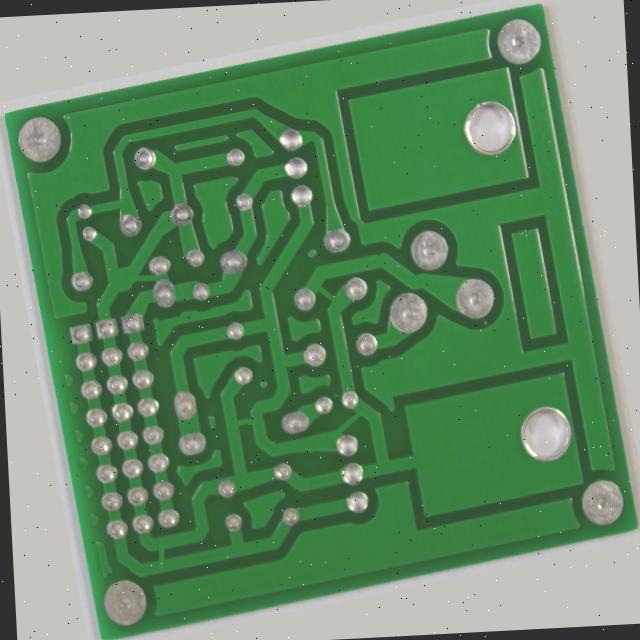short: (103, 214, 165, 265), (310, 415, 365, 471), (195, 403, 248, 443), (307, 268, 353, 314), (95, 532, 128, 582)
